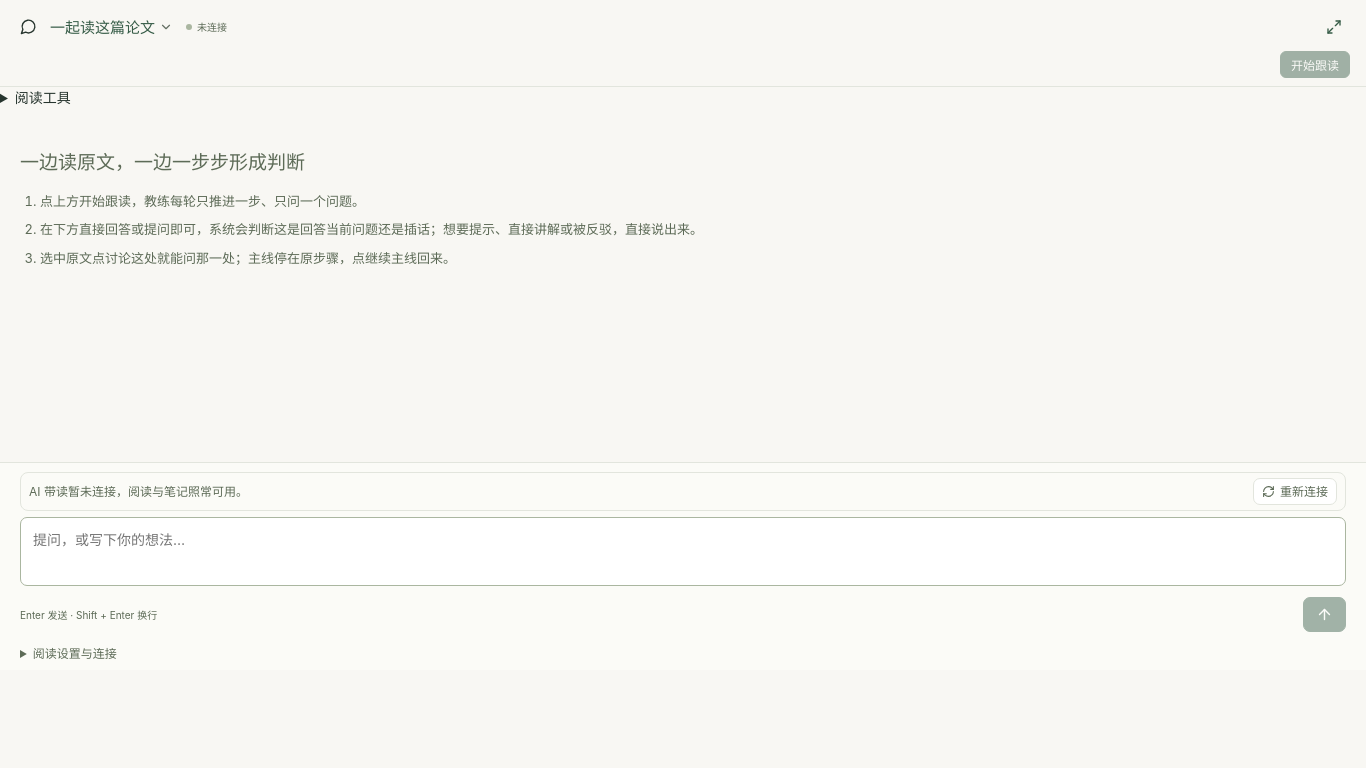
Scenario: explains an unavailable coach instead of showing a perpetual connecting state
expect the message shows "AI 带读暂未连接": met, box 29,484 -> 248,499
expect the text "未连接" is shown: met, box 186,19 -> 227,34
Click the button "重新连接": (1295, 491) 1253,478 -> 1337,505
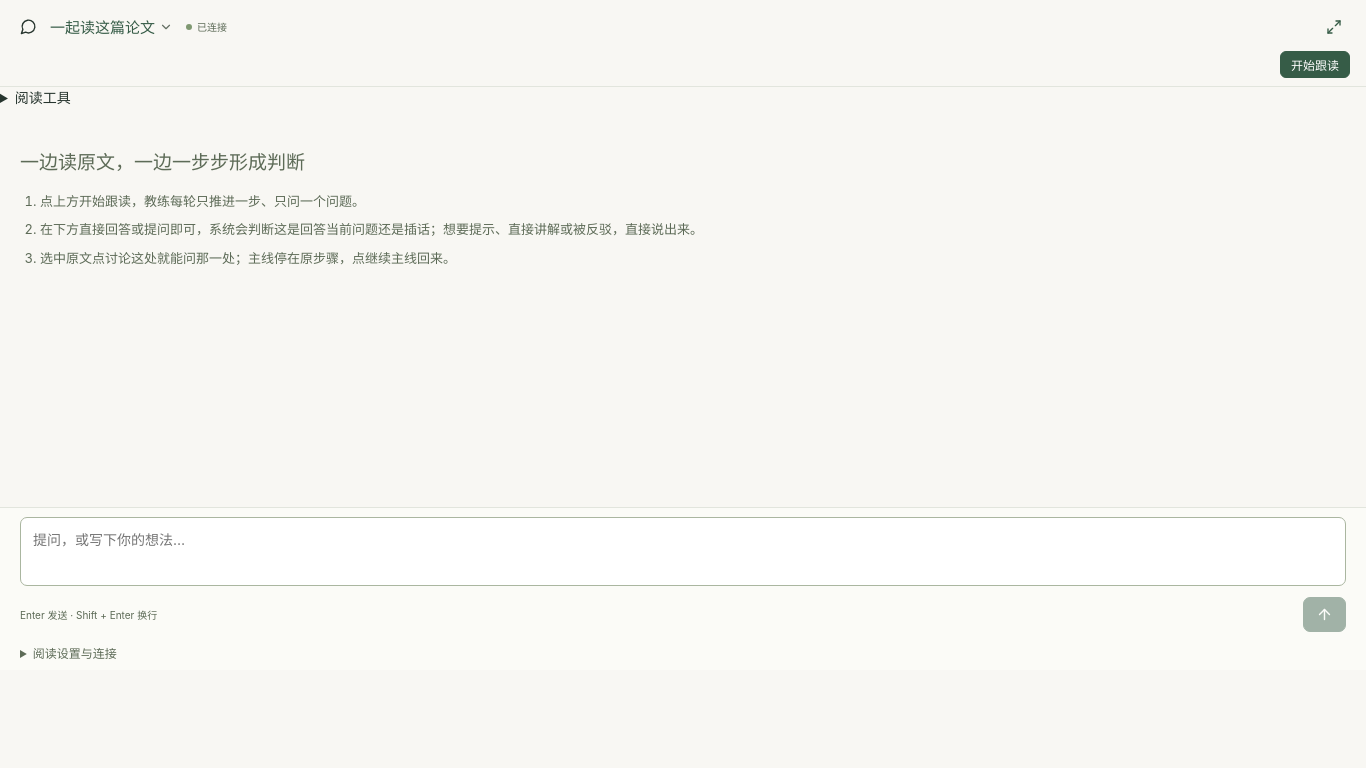
expect the message "AI 带读暂未连接，阅读与笔记照常可用。 重新连接" is gone: met
expect the text "已连接" is shown: met, box 186,19 -> 227,34
